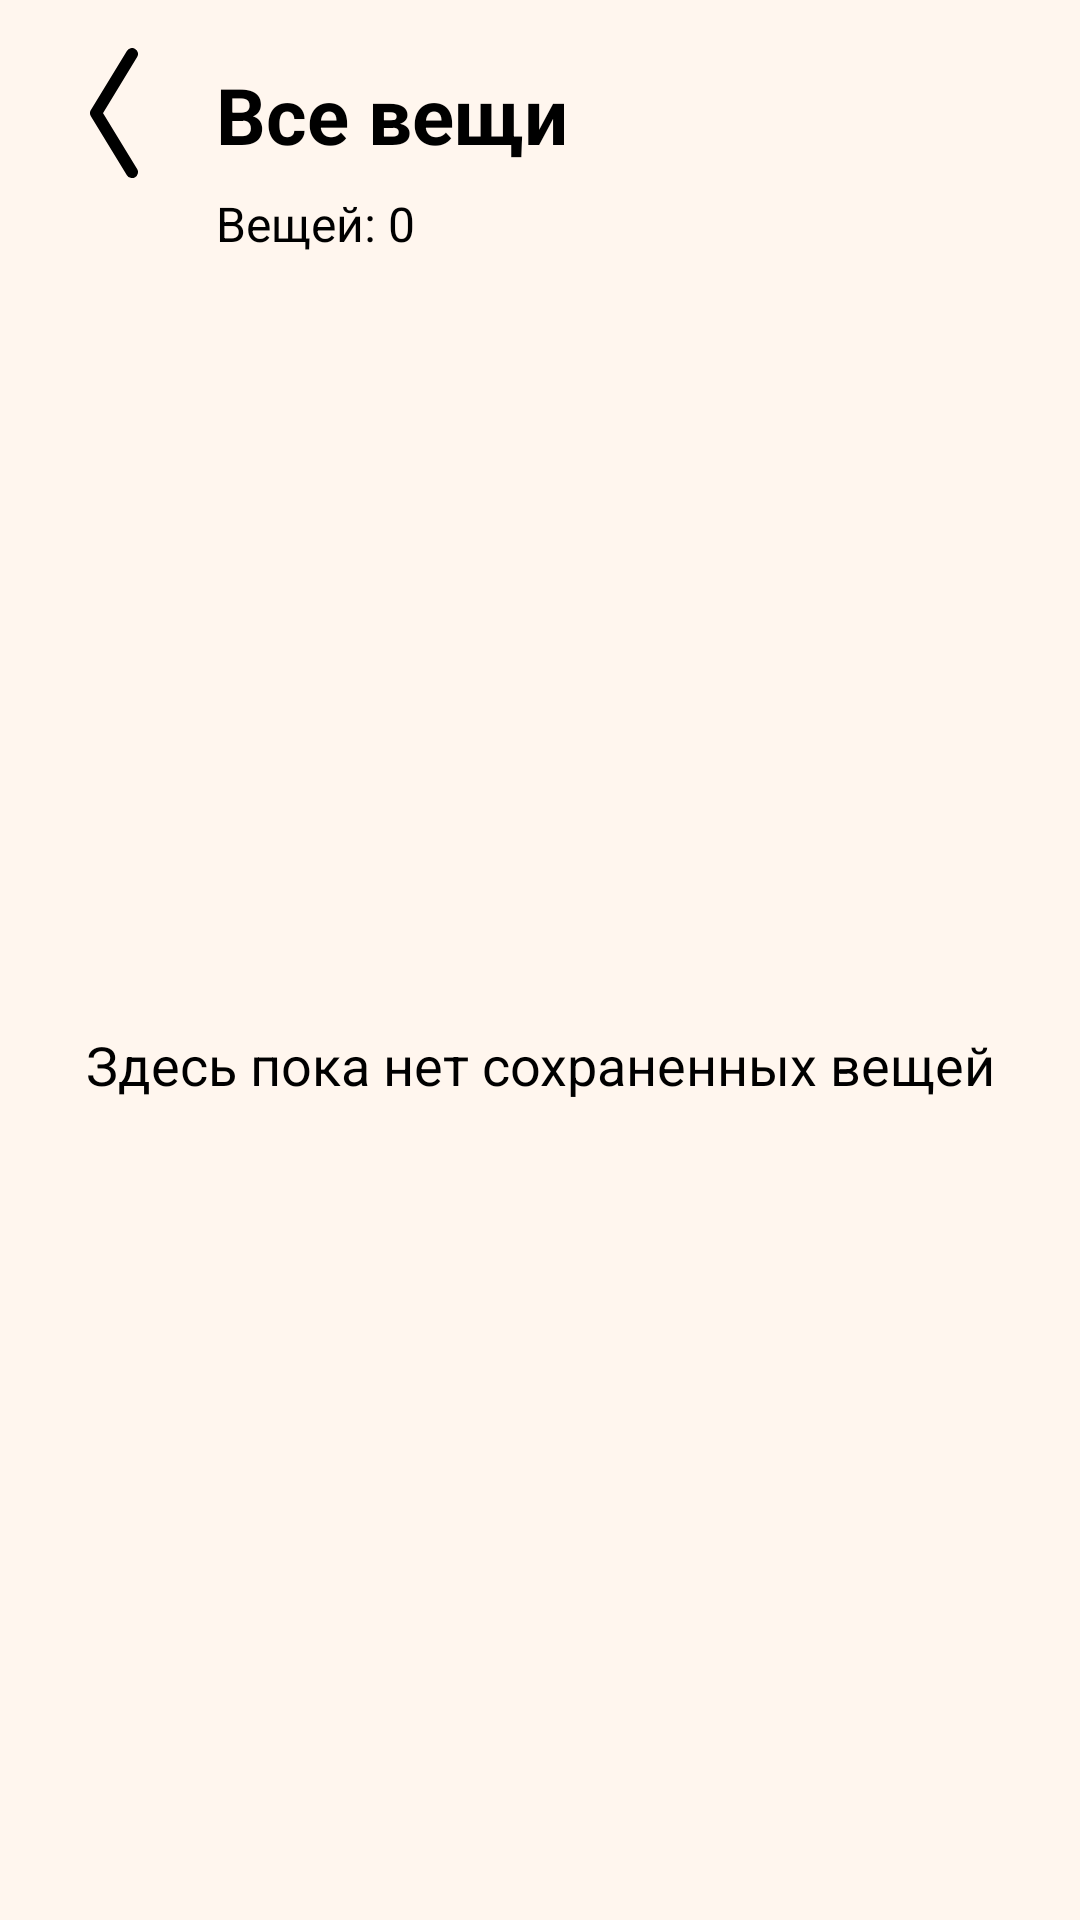

Screen size 1080 x 1920. Icon name, then its center in pixels as (x=x, y=y):
Назад: (x=114, y=113)
